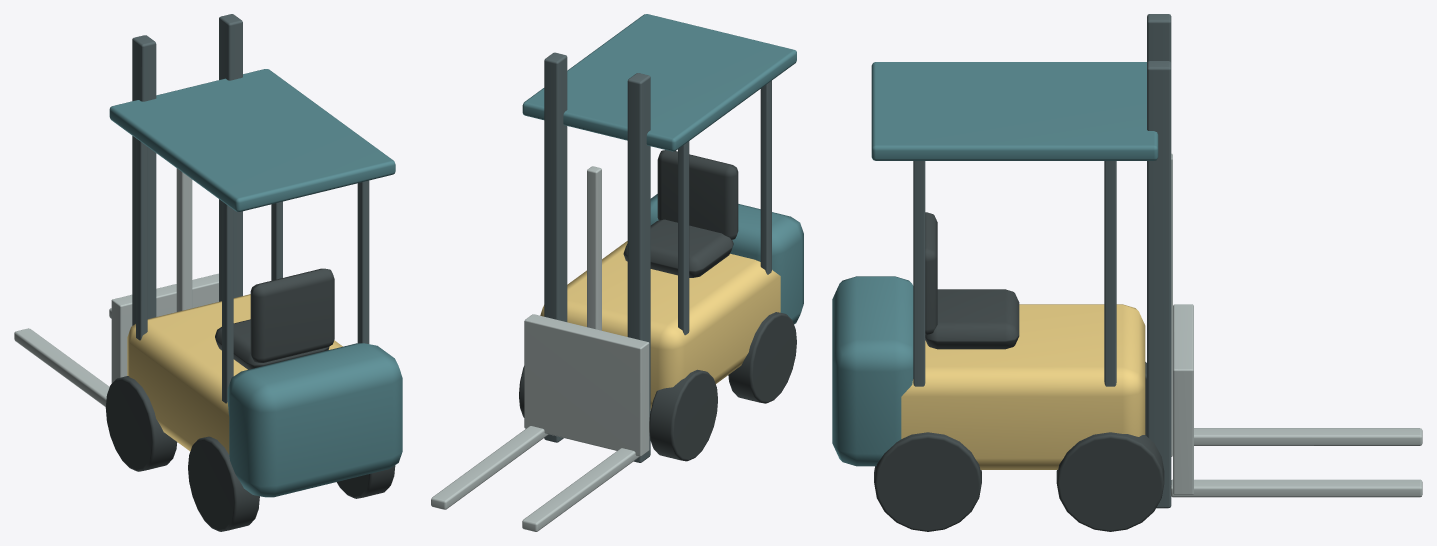
File: forklift.glb
3 views of the same model, side by side, from view 1: azimuth 30°, elevation 25°; view 2: azimuth 150°, elevation 25°; view 3: azimuth 270°, elevation 25° (orthographic). The views are drawn at different scales.
Visible parts, largest first — view 1: overhead-guard, counterweight, body, seat-back, wheel, wheel.001, mast, fork-back, mast.001, front-post, hydraulic-ram, protection-post (+5 smaller); view 2: overhead-guard, body, fork-back, mast, mast.001, seat-back, wheel.001, counterweight, wheel, seat, fork, hydraulic-ram (+3 smaller); view 3: body, overhead-guard, counterweight, mast.001, wheel.003, wheel.002, seat, fork.001, fork, fork-back, protection-post.001, front-post.001 (+2 smaller).
Boxes of the visible parts, x1,y1,x2,y2 form: overhead-guard: [109, 69, 395, 211]; counterweight: [227, 343, 402, 497]; body: [127, 294, 342, 454]; seat-back: [250, 268, 334, 362]; wheel: [188, 436, 259, 531]; wheel.001: [105, 376, 177, 471]; mast: [132, 35, 156, 325]; fork-back: [111, 273, 218, 383]; mast.001: [219, 14, 242, 301]; front-post: [136, 138, 147, 340]; hydraulic-ram: [176, 168, 192, 311]; protection-post: [222, 201, 233, 403]; overhead-guard: [522, 14, 796, 151]; body: [540, 241, 780, 409]; fork-back: [524, 314, 649, 456]; mast: [627, 73, 650, 462]; mast.001: [544, 52, 567, 442]; seat-back: [657, 150, 738, 239]; wheel.001: [649, 369, 717, 461]; counterweight: [650, 194, 803, 324]; wheel: [728, 312, 796, 403]; seat: [623, 219, 733, 277]; fork: [522, 448, 639, 531]; hydraulic-ram: [587, 166, 601, 330]; body: [901, 304, 1145, 469]; overhead-guard: [871, 62, 1158, 160]; counterweight: [832, 276, 913, 466]; mast.001: [1147, 61, 1171, 508]; wheel.003: [1056, 432, 1164, 531]; wheel.002: [874, 432, 981, 531]; seat: [925, 289, 1019, 349]; fork.001: [1170, 479, 1422, 497]; fork: [1194, 428, 1422, 445]; fork-back: [1173, 304, 1193, 494]; protection-post.001: [913, 161, 925, 386]; front-post.001: [1104, 161, 1116, 386].
Size of the model in its own units: 1.19 by 2.85 by 3.39.
